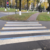zebra: (1, 22, 50, 44)
